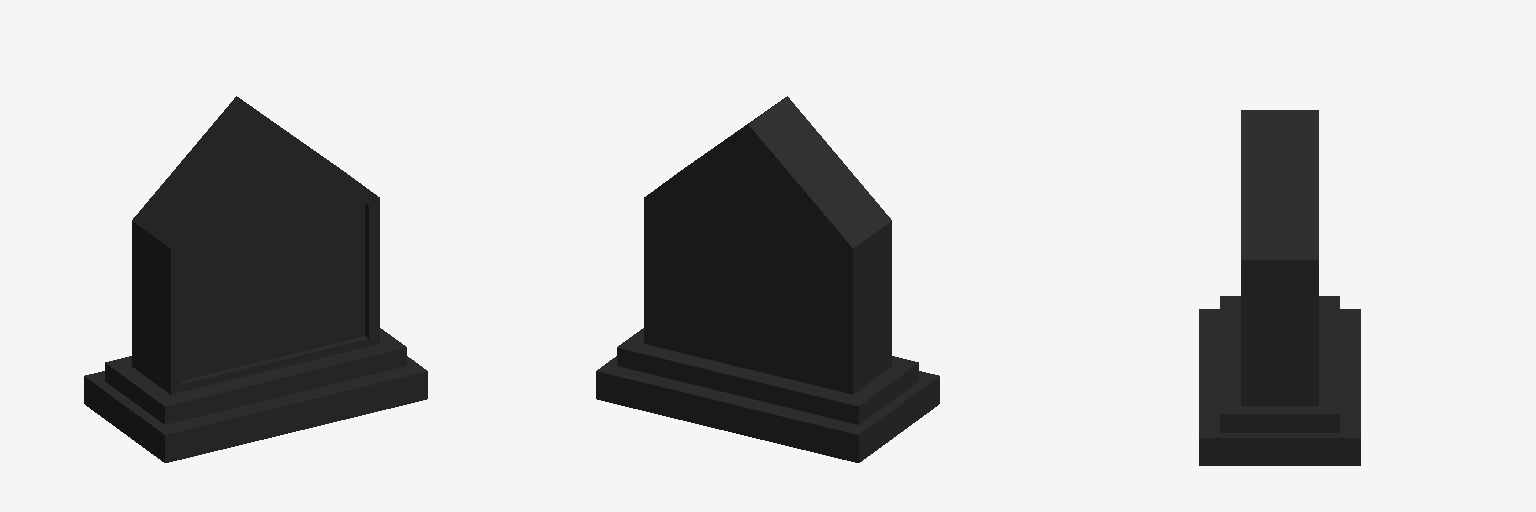
Rendered from Grave_03.obj.
3 views of the same model, side by side, from view 1: azimuth 30°, elevation 25°; view 2: azimuth 150°, elevation 25°; view 3: azimuth 270°, elevation 25° (orthographic).
Parts seen in each view (by area): view 1: Grave_03_Cube.002; view 2: Grave_03_Cube.002; view 3: Grave_03_Cube.002.
Part boxes in pixels (bbox=[...]): Grave_03_Cube.002: bbox=[84, 96, 427, 462]; Grave_03_Cube.002: bbox=[596, 96, 939, 462]; Grave_03_Cube.002: bbox=[1199, 110, 1360, 465].
Bounding box in the file's own units: 1.38 × 1.46 × 0.7379.